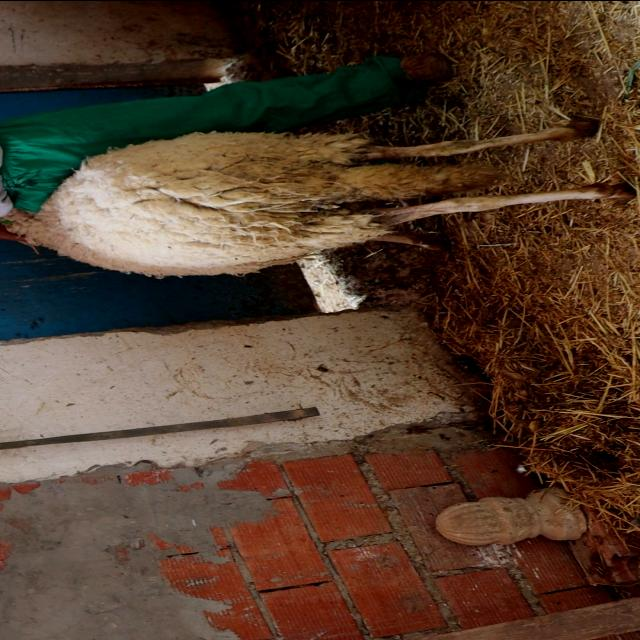Score_5: (4, 120, 634, 277)
